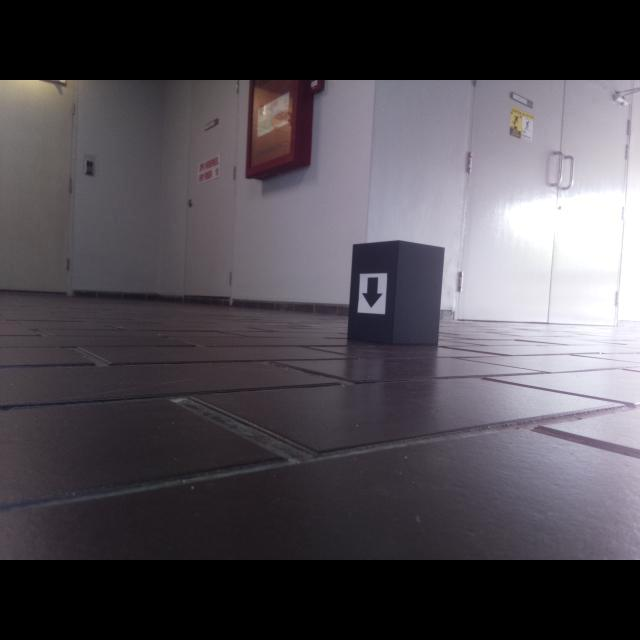DOWN: (361, 277, 384, 309)
